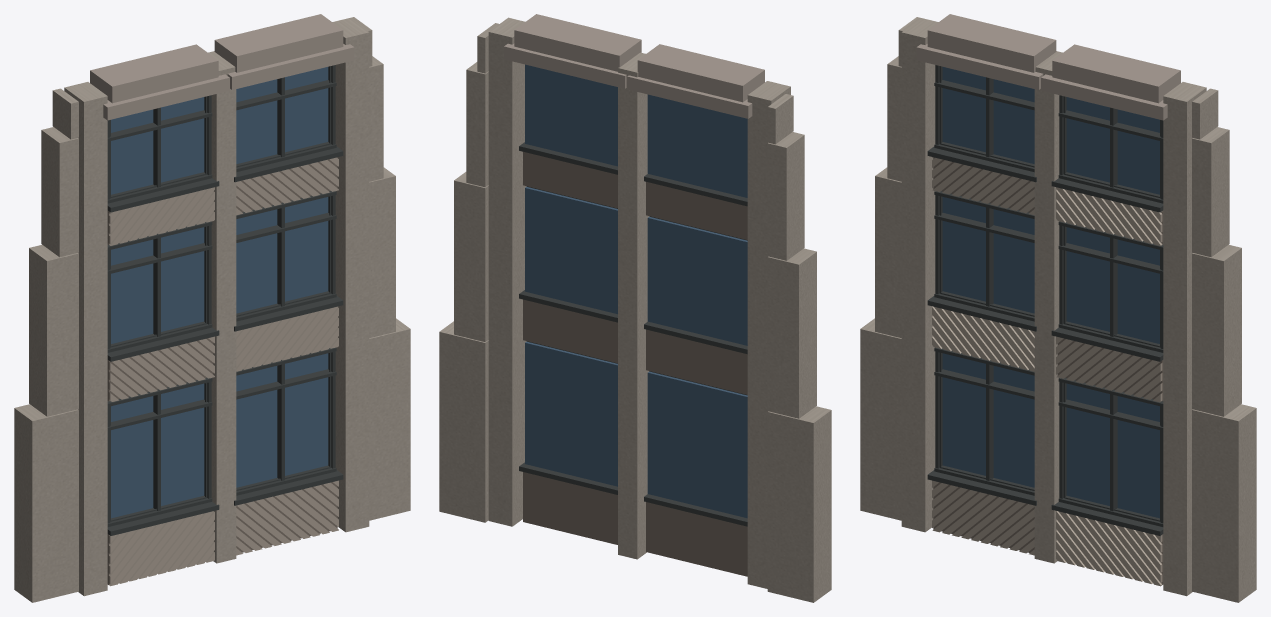
Rendered from huangpu-lawyers-club-chevron-spandrels-web.glb.
3 renders of one model, left to right at view 1: azimuth 30°, elevation 25°; view 2: azimuth 150°, elevation 25°; view 3: azimuth 330°, elevation 25°, orthographic.
Parts seen in each view (by area): view 1: 上海律师公会会所双列钢窗与人字纹窗裙; view 2: 上海律师公会会所双列钢窗与人字纹窗裙; view 3: 上海律师公会会所双列钢窗与人字纹窗裙.
Boxes of the visible parts, box(x1,y1,x2,y2) form: 上海律师公会会所双列钢窗与人字纹窗裙: box(14, 14, 410, 602); 上海律师公会会所双列钢窗与人字纹窗裙: box(439, 14, 831, 602); 上海律师公会会所双列钢窗与人字纹窗裙: box(860, 14, 1256, 602).
Size of the model in its own units: 3.34 by 4.25 by 0.427.
Materials: 6 (1 with a texture image).
